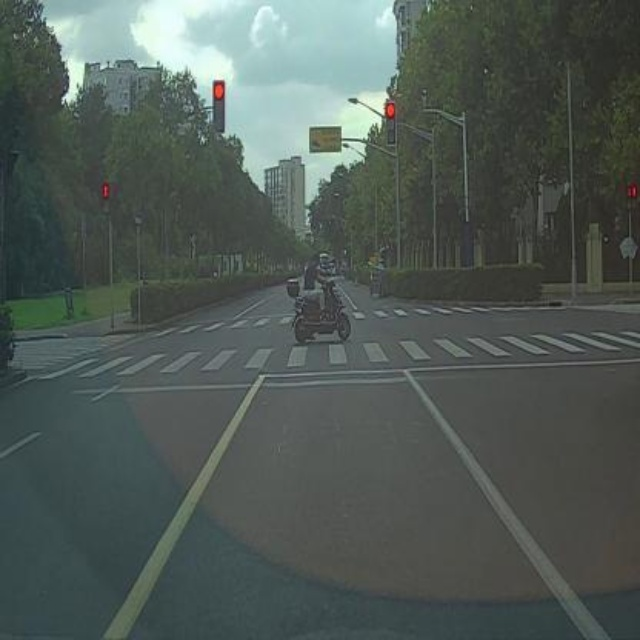Đèn đỏ: (213, 79, 225, 135), (385, 101, 397, 148)
